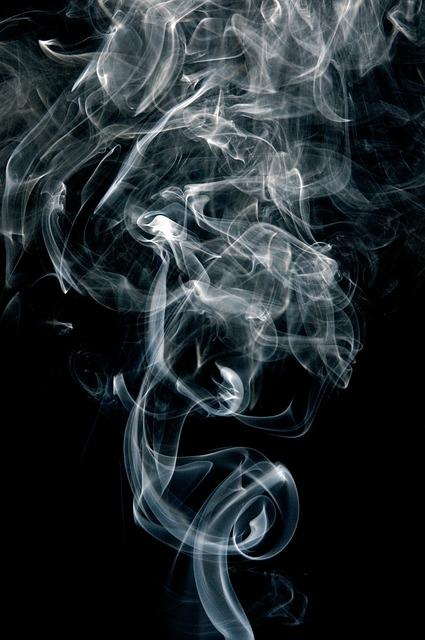yanwu: (13, 4, 413, 628)
